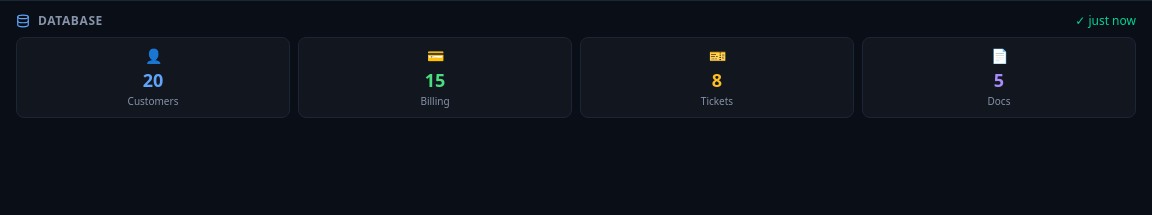
Test: DatabaseStatus › collapses an expanded card on second click
The image size is (1152, 215).
Click the text "Customers".
click(153, 101)  # box [128, 94, 178, 108]
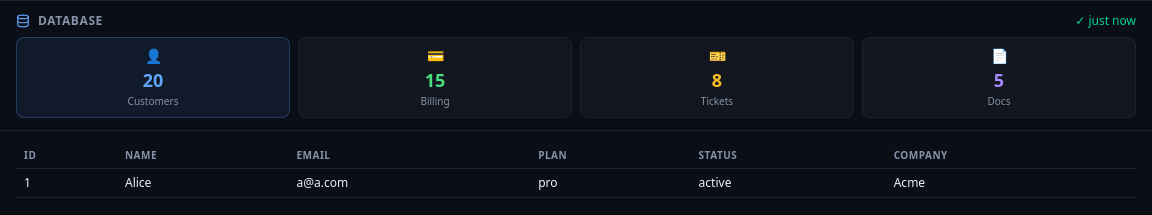
Now the text "Alice" is shown, box [117, 169, 288, 198]
Click the text "Customers".
click(153, 101)  # box [128, 94, 178, 108]
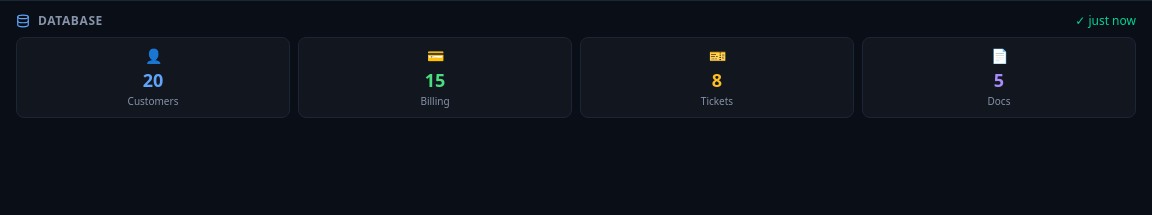
Now the text "Alice" is gone
